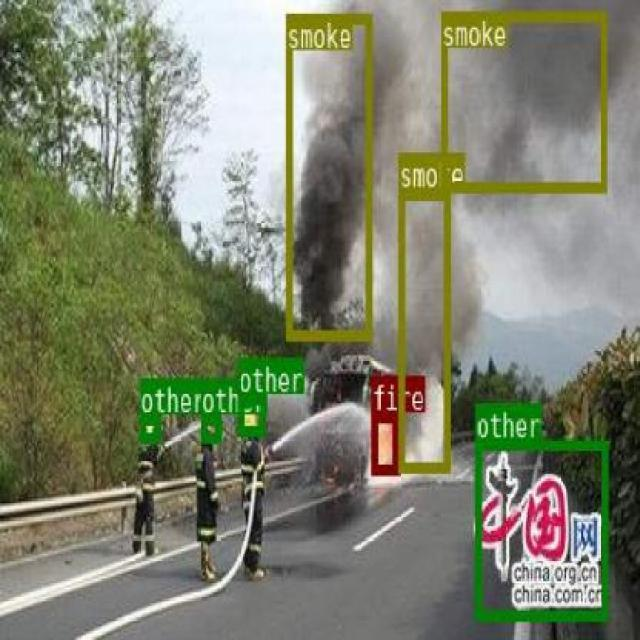Fire: (370, 410, 398, 473)
Smoke: (440, 9, 606, 189), (284, 13, 370, 338), (396, 187, 449, 470)
